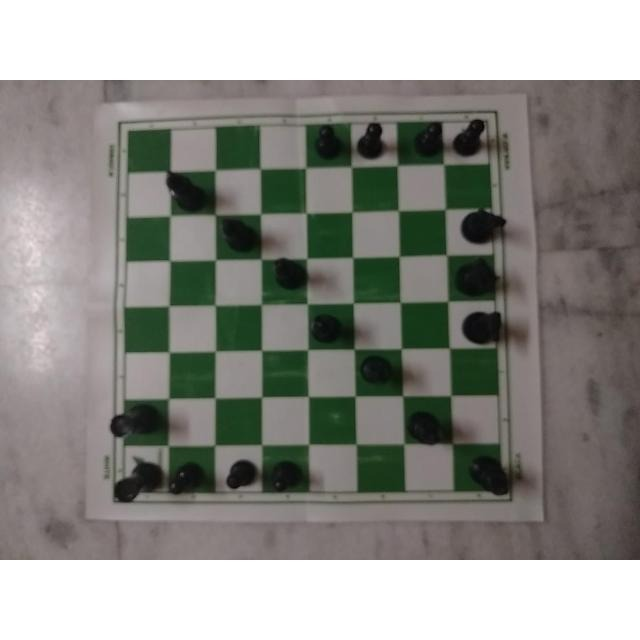black-bishop: (466, 450, 522, 506), (160, 161, 204, 219), (409, 404, 453, 451), (271, 250, 306, 297), (218, 216, 257, 257), (362, 354, 398, 394), (311, 310, 345, 349)
black-knight: (455, 252, 511, 296), (459, 307, 515, 351), (454, 204, 514, 244)
black-pawn: (451, 111, 495, 157), (166, 458, 208, 502), (406, 114, 444, 162), (308, 119, 344, 165), (266, 456, 306, 496), (354, 115, 388, 159), (223, 458, 257, 492)
black-rook: (109, 398, 161, 446), (112, 458, 162, 506)
